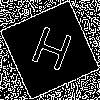H: (25, 25, 76, 81)
